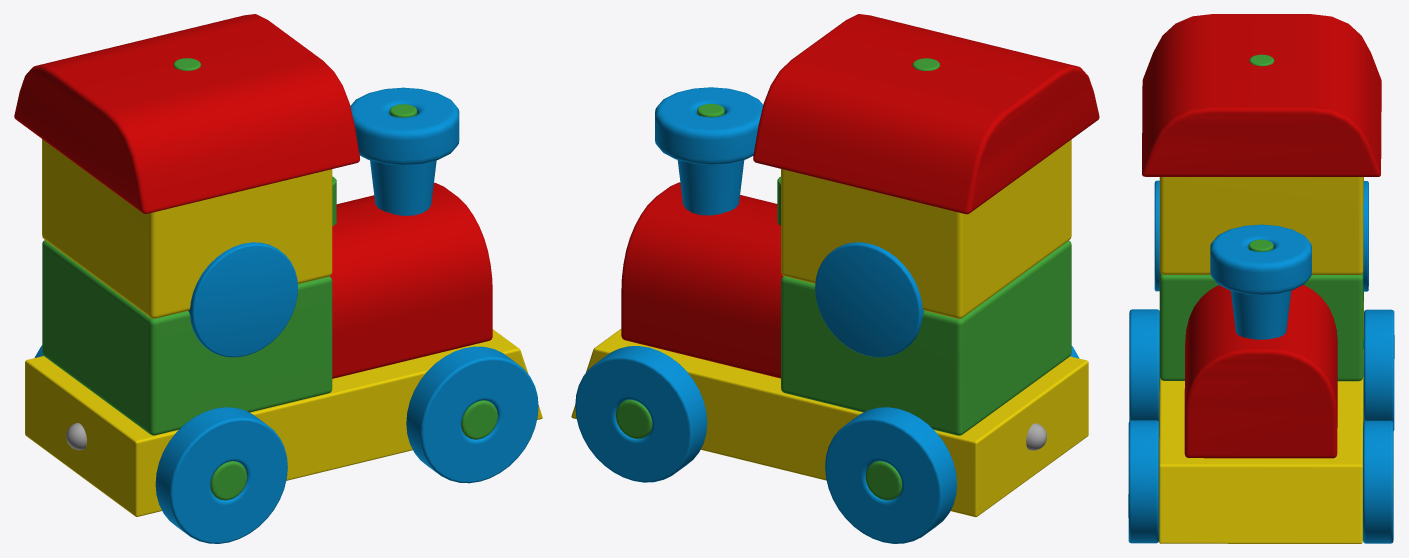
File: Train_Toy.fbx
3 renders of one model, left to right at view 1: azimuth 30°, elevation 25°; view 2: azimuth 150°, elevation 25°; view 3: azimuth 270°, elevation 25°, orthographic. The views are drawn at different scales.
Visible parts, largest first — view 1: Train; view 2: Train; view 3: Train.
Boxes of the visible parts, bbox=[...] form: Train: bbox=[14, 14, 542, 543]; Train: bbox=[571, 14, 1099, 543]; Train: bbox=[1128, 14, 1394, 543].
Size of the model in its own units: 3.39 by 3.24 by 2.05.
